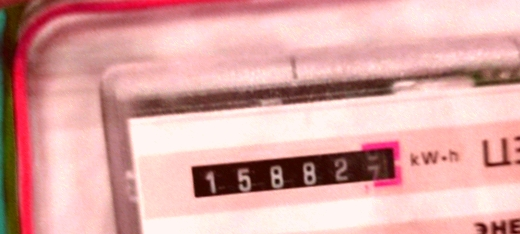1: (201, 170, 218, 196)
2: (331, 157, 348, 182)
5: (233, 166, 251, 193)
7: (364, 162, 380, 182)
8: (266, 164, 284, 192), (299, 161, 316, 187)
screen: (174, 133, 411, 215)
